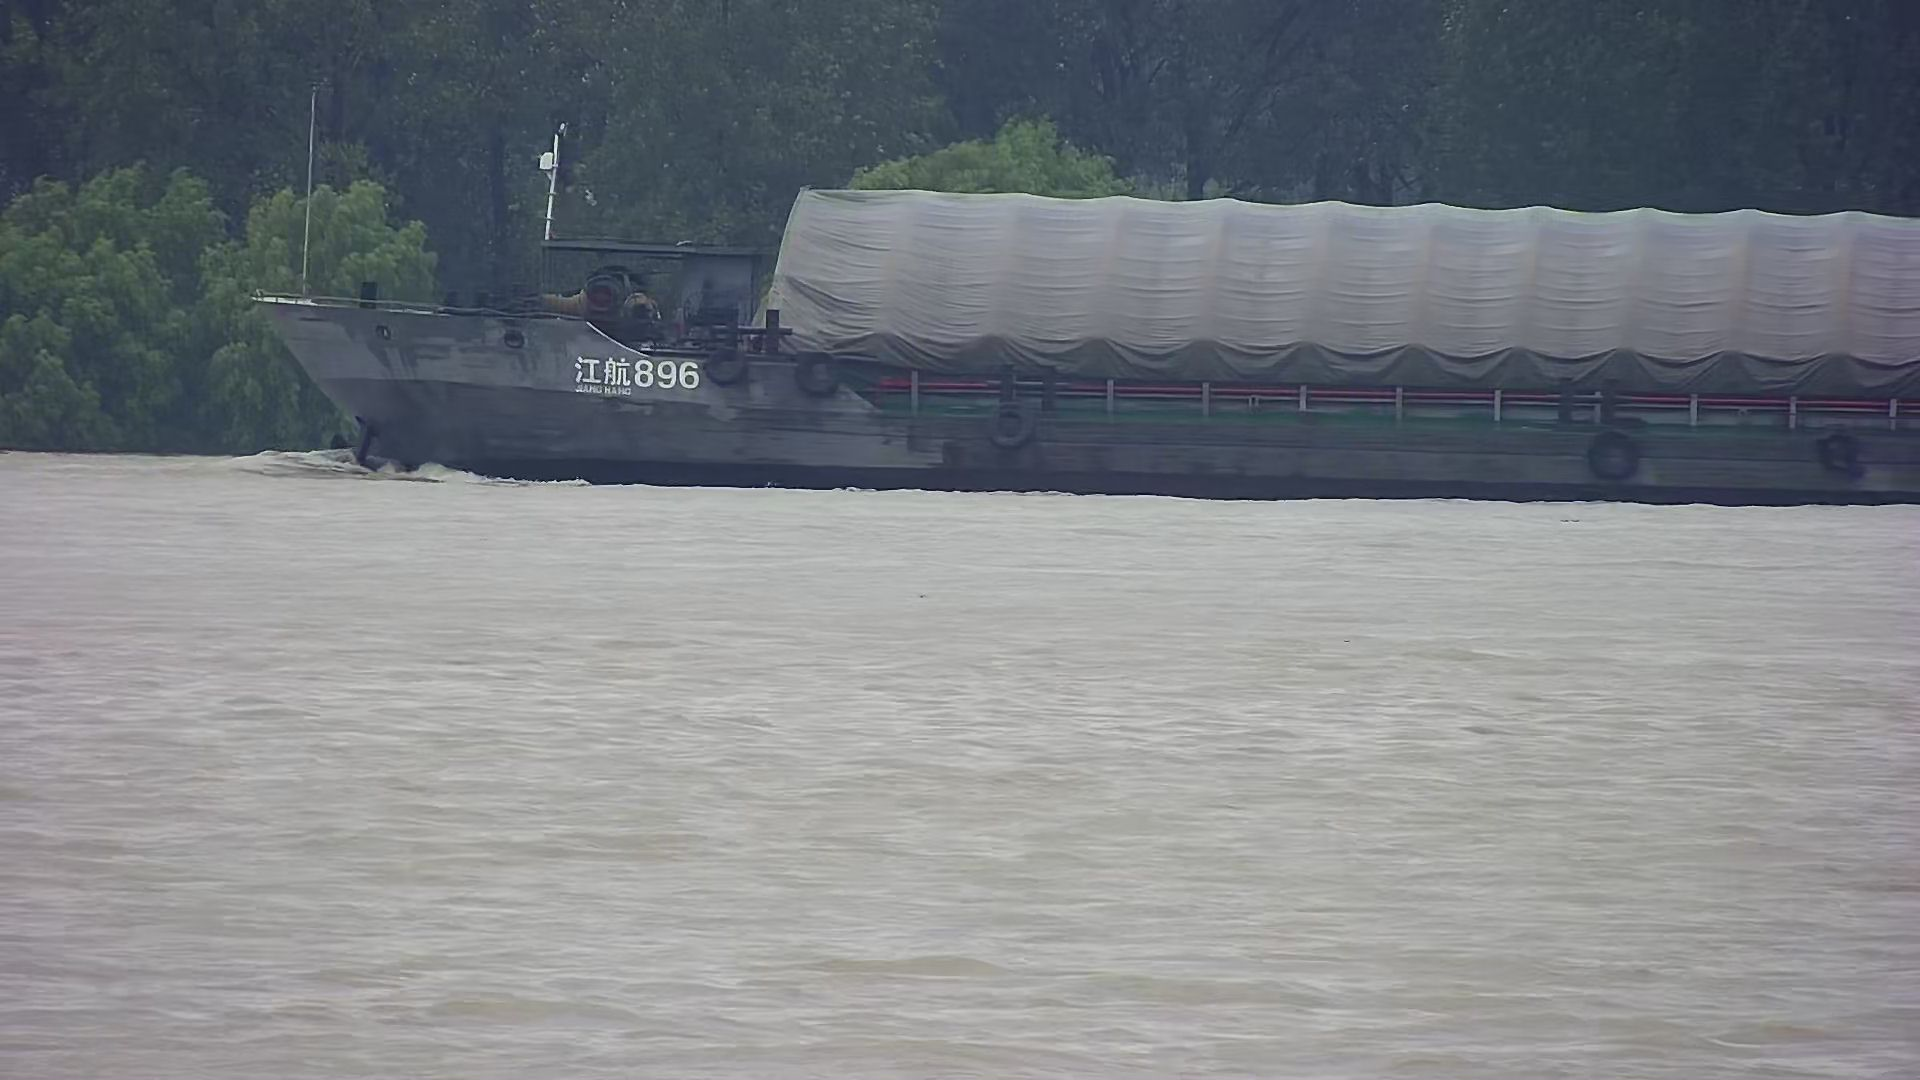ship: (257, 78, 1920, 526)
